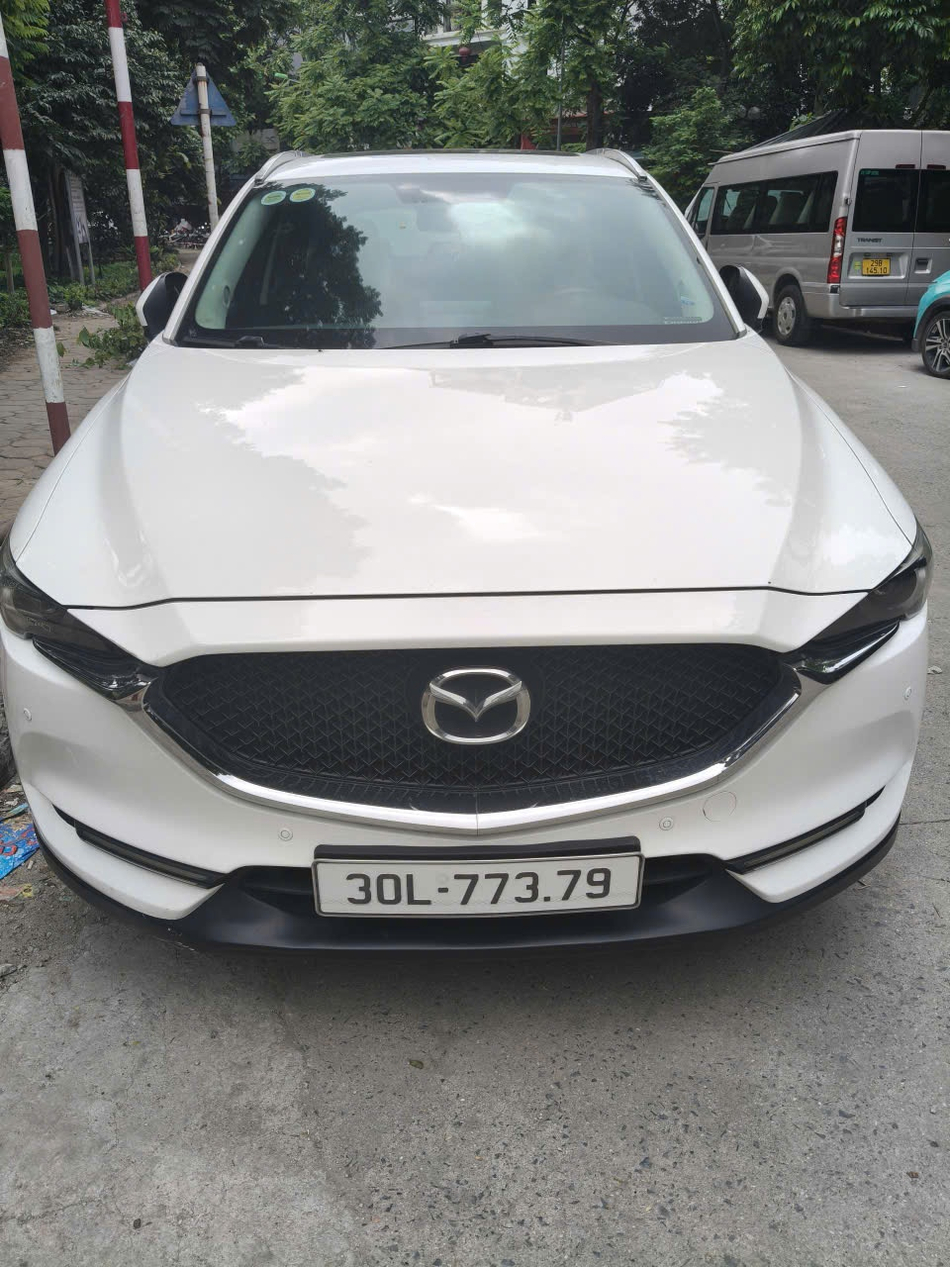plate: (824, 0, 946, 49)
